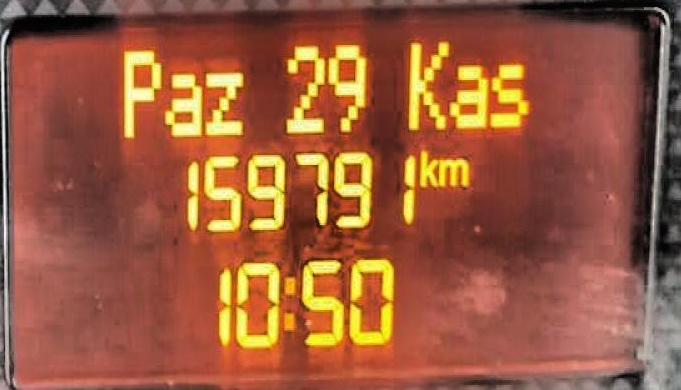0: (349, 251, 394, 346), (235, 256, 277, 348)
1: (216, 260, 232, 346), (399, 146, 415, 228), (184, 155, 200, 231)
2: (282, 38, 325, 138)
5: (297, 256, 345, 350), (204, 148, 241, 234)
7: (291, 146, 327, 226)
9: (327, 38, 370, 133), (333, 143, 373, 233), (246, 150, 285, 235)
X: (405, 35, 450, 131), (121, 41, 160, 140), (202, 64, 246, 138), (487, 58, 530, 131), (163, 68, 203, 138), (450, 58, 487, 133), (437, 155, 471, 186), (418, 145, 438, 190), (282, 268, 295, 336)
